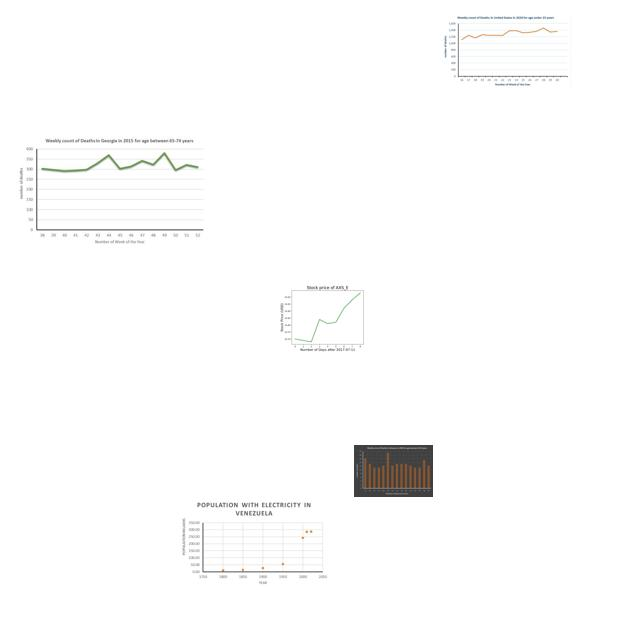Graph: (14, 134, 208, 250), (178, 498, 330, 590), (441, 14, 571, 90), (280, 282, 373, 352), (354, 445, 433, 497)
